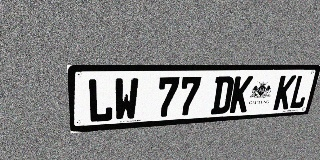7: (155, 77, 180, 118), (177, 77, 202, 117)
D: (210, 76, 235, 115)
K: (229, 76, 253, 113), (273, 75, 297, 110)
L: (87, 78, 113, 123), (288, 75, 312, 109)
W: (114, 78, 139, 121)
